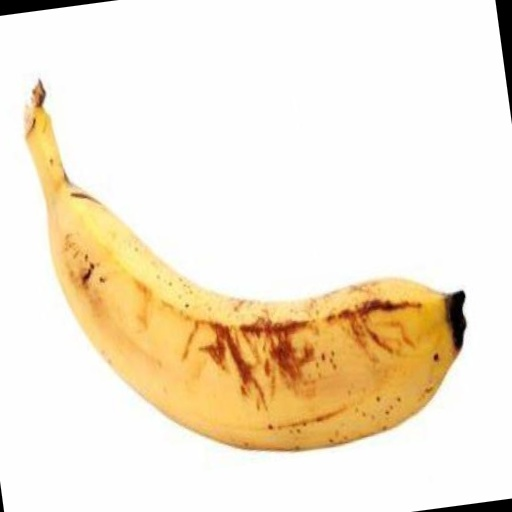fruit: (26, 84, 465, 450)
